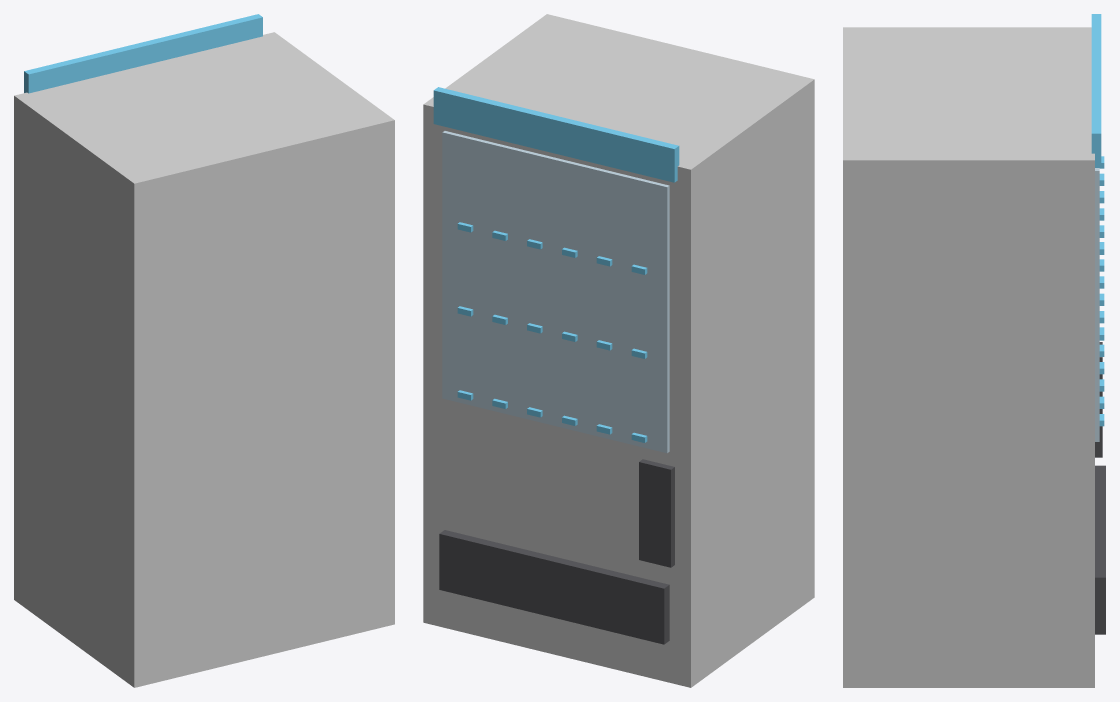
Rendered from VendingMachine.fbx.
3 views of the same model, side by side, from view 1: azimuth 30°, elevation 25°; view 2: azimuth 150°, elevation 25°; view 3: azimuth 270°, elevation 25° (orthographic). The views are drawn at different scales.
Visible parts, largest first — view 1: VendingMachine_Mesh; view 2: VendingMachine_Mesh; view 3: VendingMachine_Mesh.
Boxes of the visible parts, box(x1,y1,x2,y2) form: VendingMachine_Mesh: box(14, 14, 394, 687); VendingMachine_Mesh: box(423, 14, 814, 687); VendingMachine_Mesh: box(843, 14, 1105, 687).
Bounding box in the file's own units: 1 × 0.835 × 1.92.
